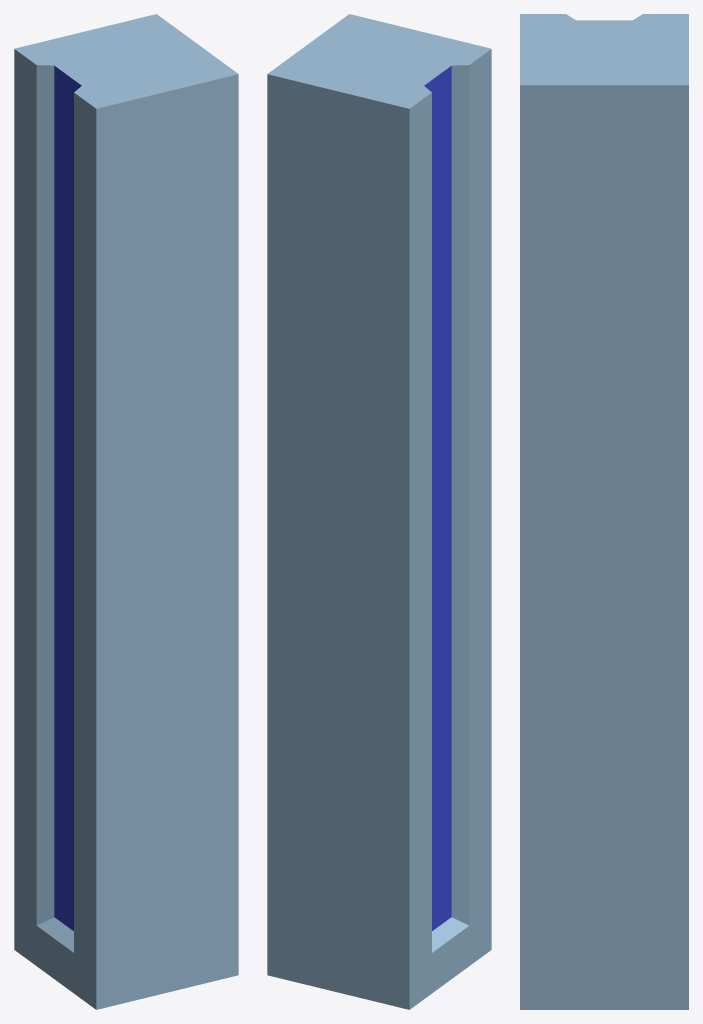
File: EspacioRedSocialColumnaInteriorBajoNI.gltf
3 renders of one model, left to right at view 1: azimuth 30°, elevation 25°; view 2: azimuth 150°, elevation 25°; view 3: azimuth 270°, elevation 25°, orthographic. The views are drawn at different scales.
Parts seen in each view (by area): view 1: Objeto Poligonal.4; view 2: Objeto Poligonal.4; view 3: Objeto Poligonal.4.
Part boxes in pixels (box(x1,y1,x2,y2)): Objeto Poligonal.4: box(14, 14, 238, 1009); Objeto Poligonal.4: box(267, 14, 491, 1009); Objeto Poligonal.4: box(520, 14, 688, 1009).
Size of the model in its own units: 0.3307 by 2 by 0.3307.
Materials: 1 (1 with a texture image).
